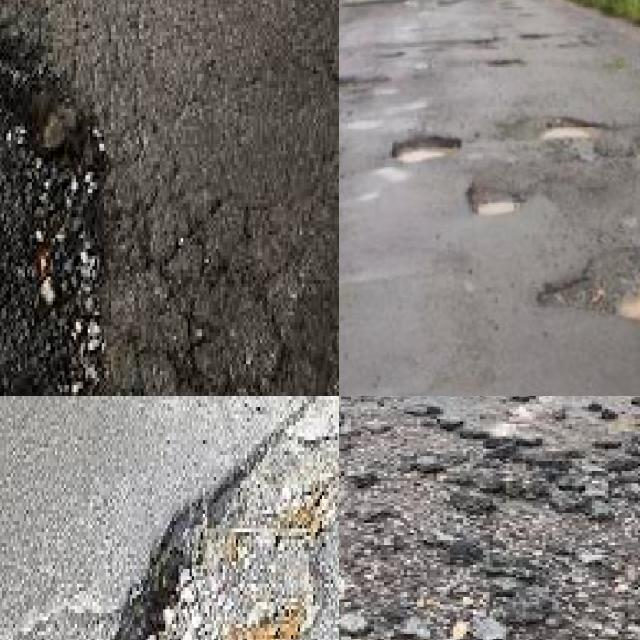Pothole: (112, 414, 339, 640), (0, 19, 105, 396), (537, 245, 640, 325), (465, 177, 528, 217), (389, 134, 463, 164), (543, 117, 609, 141)
